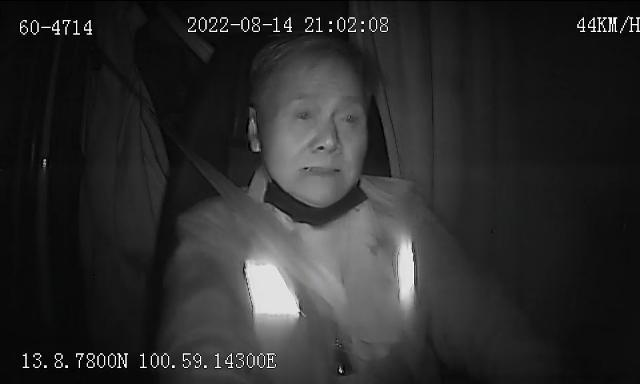SafeDriving: (331, 104, 365, 134), (288, 100, 320, 129)
Seatbelt: (180, 150, 348, 320)
